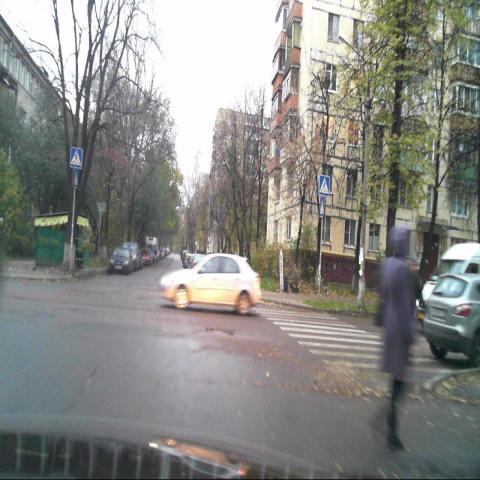5_19_1: (70, 146, 82, 168), (319, 175, 329, 196), (72, 169, 78, 189)
